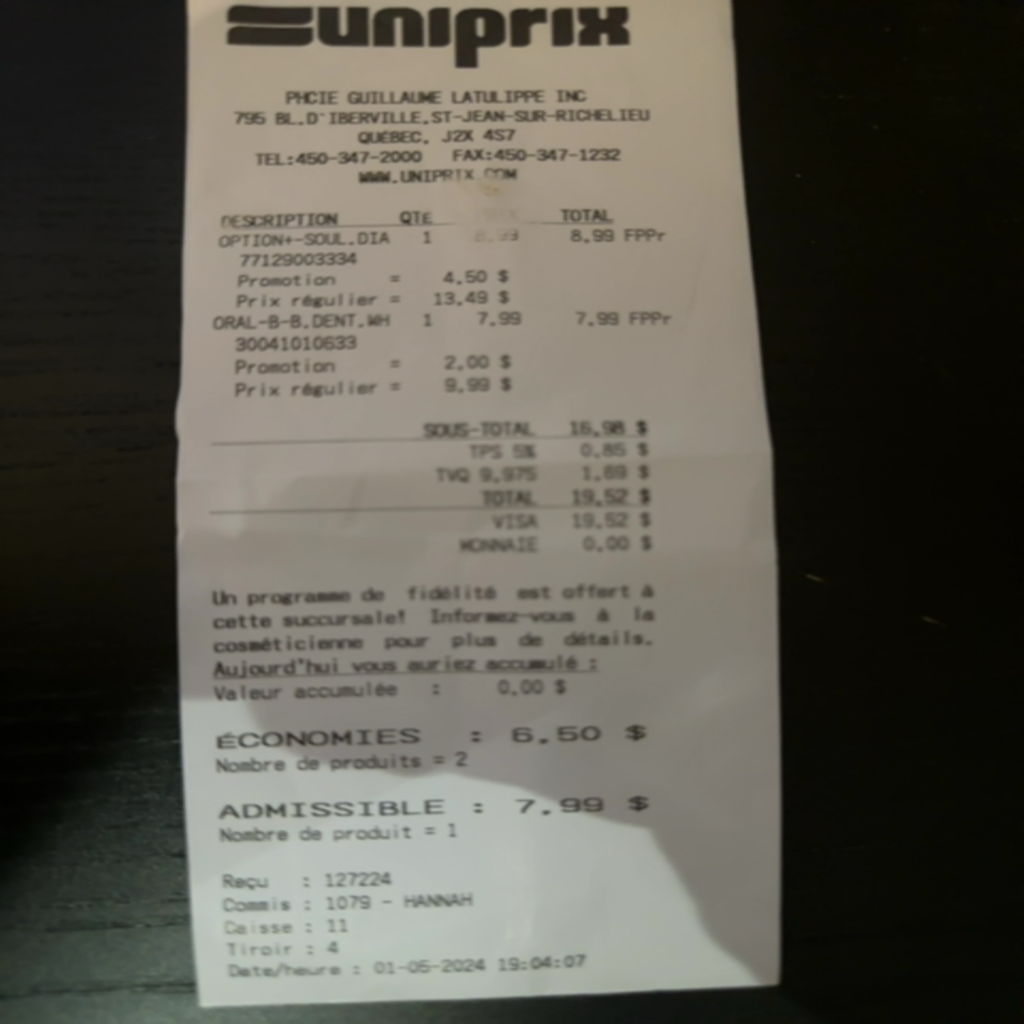recipt: (180, 2, 776, 1005)
